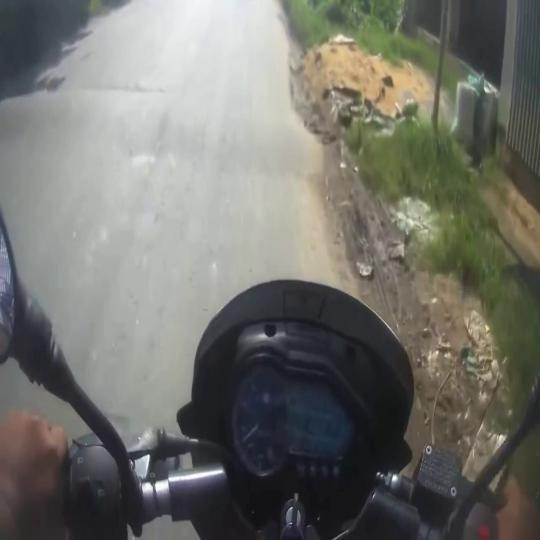Speed Bump: (0, 85, 318, 174)
